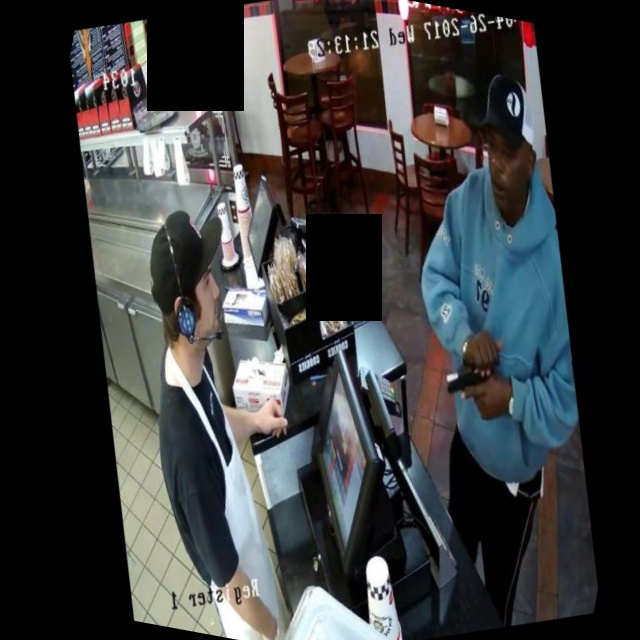gun: (414, 310, 531, 429)
